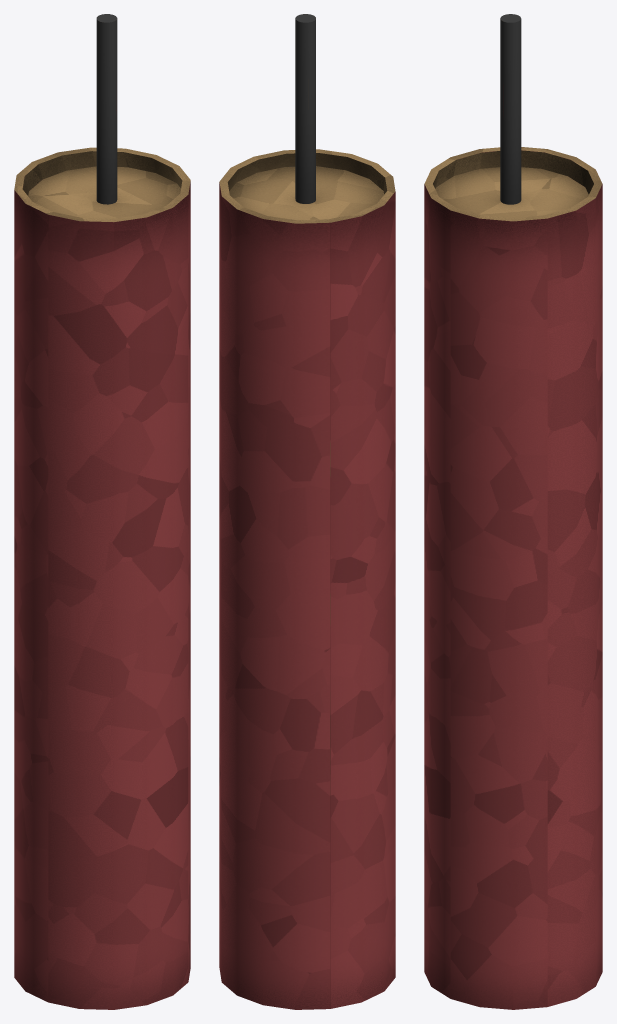
Rendered from DINAMITA.fbx.
The picture shows the model from 3 angles, left to right: view 1: azimuth 30°, elevation 25°; view 2: azimuth 150°, elevation 25°; view 3: azimuth 270°, elevation 25°; orthographic projection.
Visible parts, largest first — view 1: DINAMITA_Baked; view 2: DINAMITA_Baked; view 3: DINAMITA_Baked.
Boxes of the visible parts, box(x1,y1,x2,y2) form: DINAMITA_Baked: box(14, 14, 190, 1009); DINAMITA_Baked: box(219, 14, 395, 1009); DINAMITA_Baked: box(424, 14, 602, 1009).
Bounding box in the file's own units: 25.8 × 153 × 25.8.
Materials: 1 (1 with a texture image).
